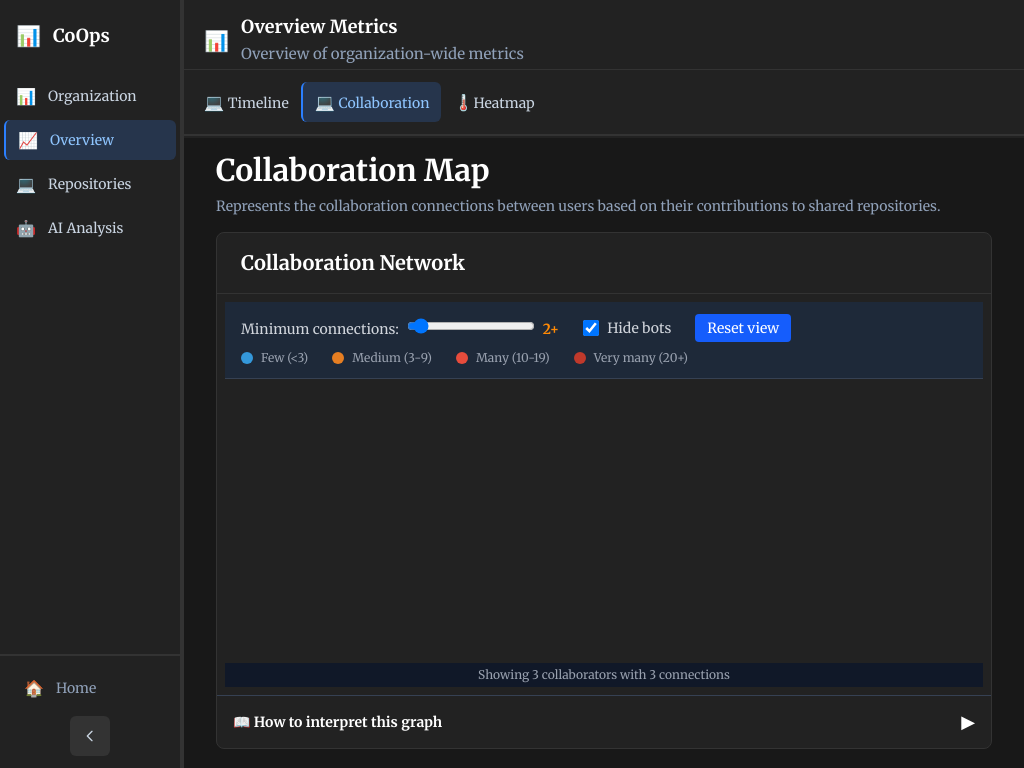
Test: CollaborationPage Component › Acessibilidade › lista usa elementos semânticos
The width and height of the screenshot is (1024, 768).
Click the button "📖 How to interpret this graph ▶" at [338, 722], box [217,696,991,748]
(page scrolled)
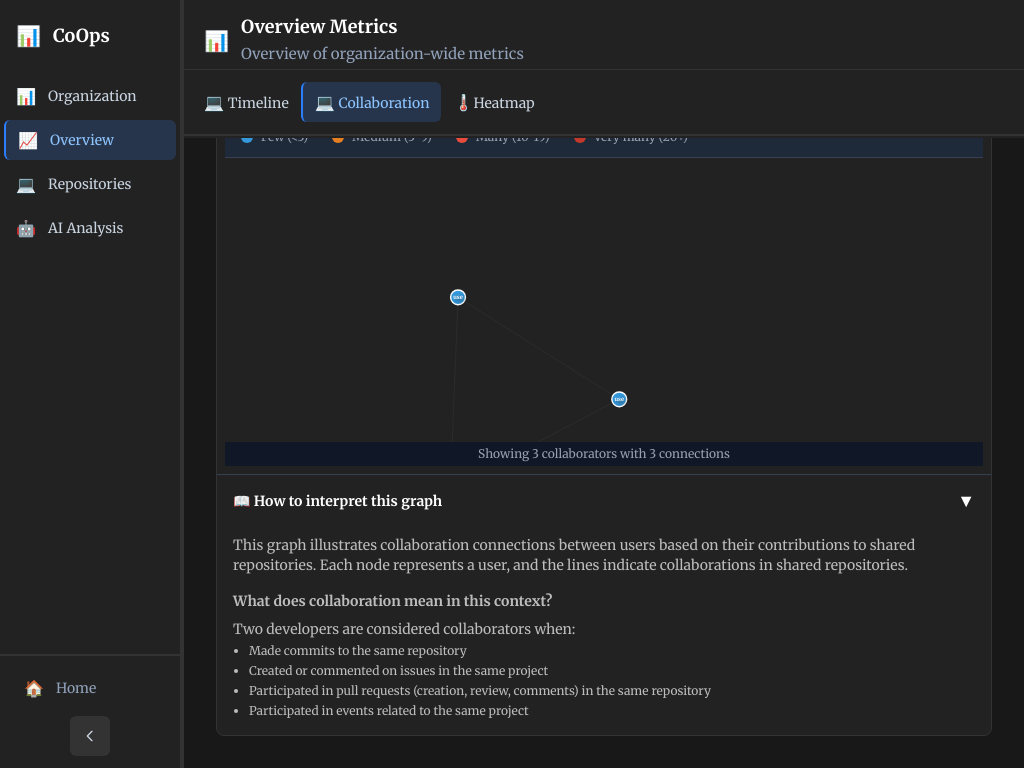
Expected: the text "Made commits to the same repository" is shown, [249,643,467,658]
